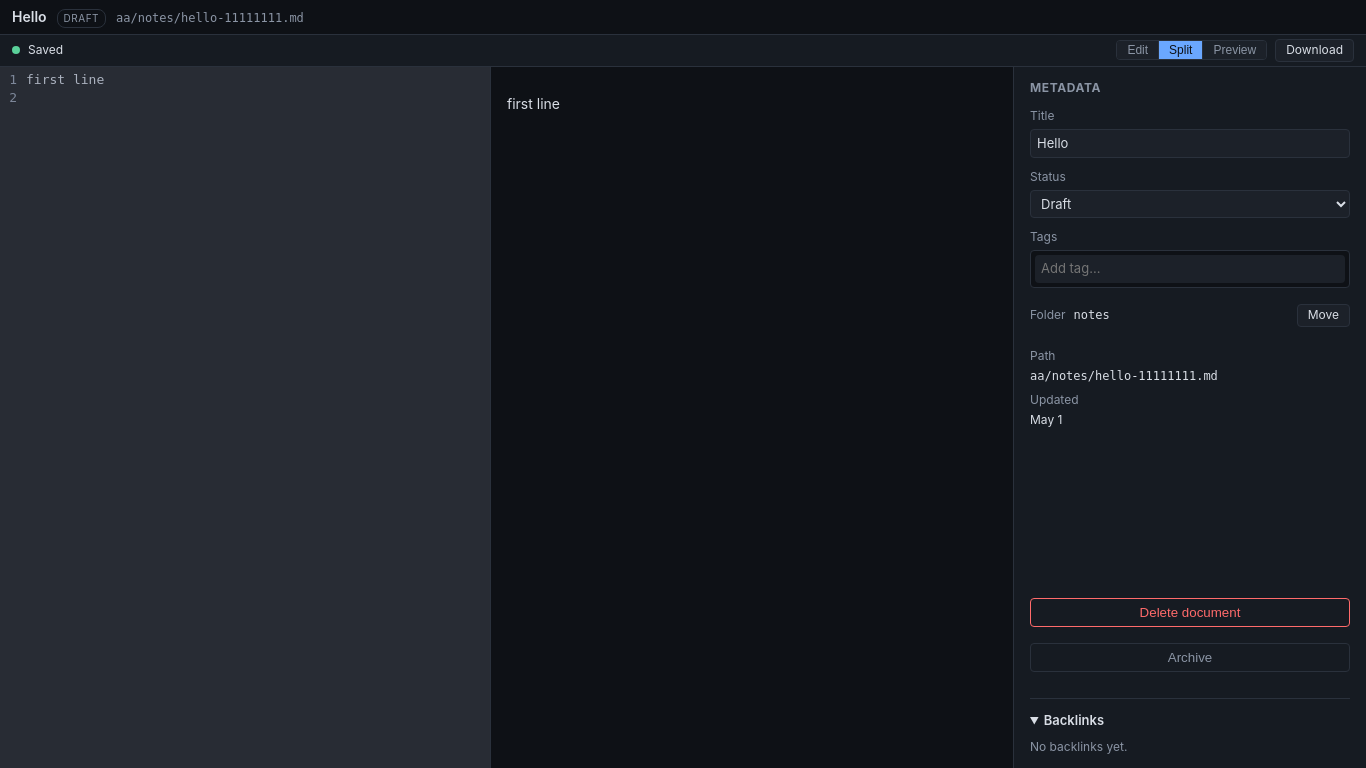
Test: DocumentWorkspace dirty → save → clean flow › marks dirty on metadata edit, then saves after debounce, then clean
Expected: the text "Saved" is shown, [28,41,63,59]
Note: Edit the title via the metadata panel.
Replace the text in the field showing "Hello" with "World" at [1190, 144], box [1030,129,1350,158]
Wait 900 ms
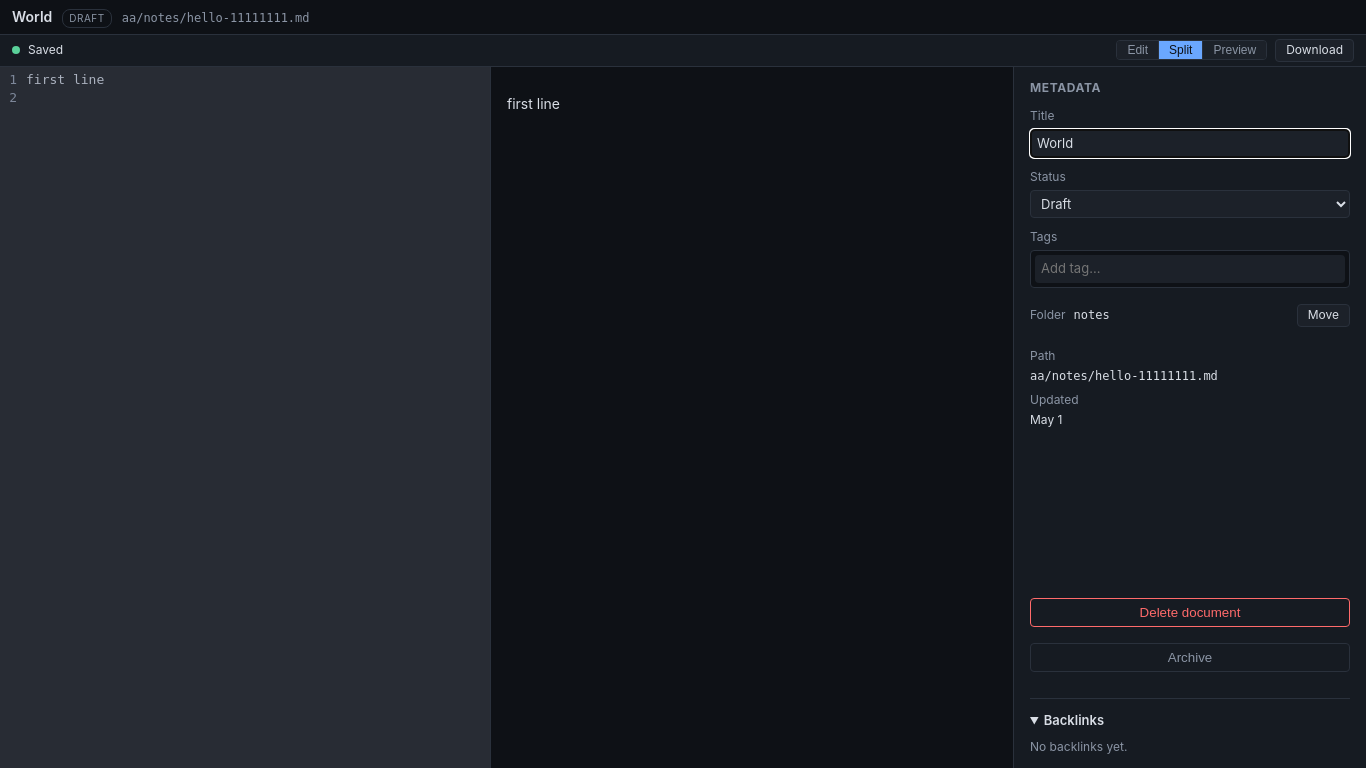
Expected: the text "Saved" is shown, [28,41,63,59]
Expected: the text "World" is shown, [12,6,52,27]
